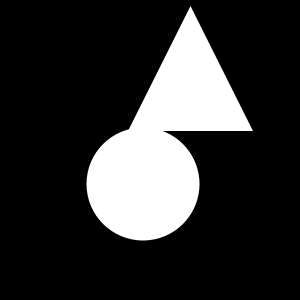rectangle: (86, 127, 200, 240)
triangle: (128, 6, 253, 131)
